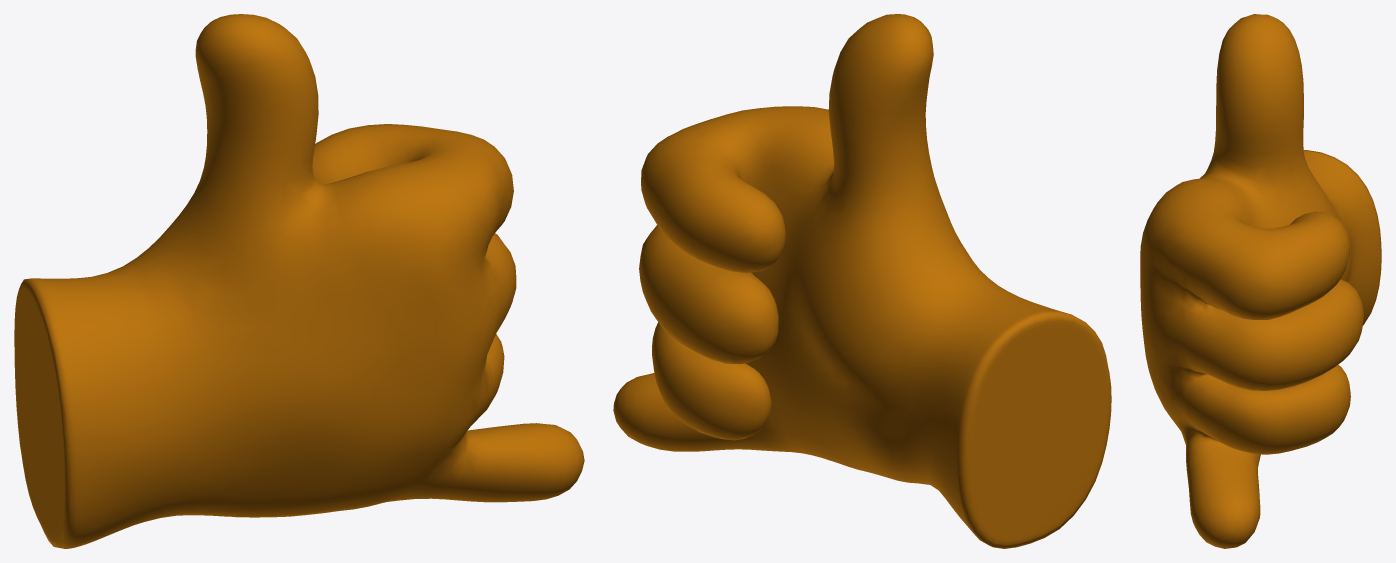
Rendered from call_me.FBX.
The picture shows the model from 3 angles, left to right: view 1: azimuth 30°, elevation 25°; view 2: azimuth 150°, elevation 25°; view 3: azimuth 270°, elevation 25°; orthographic projection. The views are drawn at different scales.
Visible parts, largest first — view 1: Group25973; view 2: Group25973; view 3: Group25973.
Part boxes in pixels (bbox=[...]): Group25973: bbox=[14, 14, 584, 548]; Group25973: bbox=[613, 14, 1111, 548]; Group25973: bbox=[1140, 14, 1381, 548].
Bounding box in the file's own units: 14.92 × 14.63 × 7.62.
